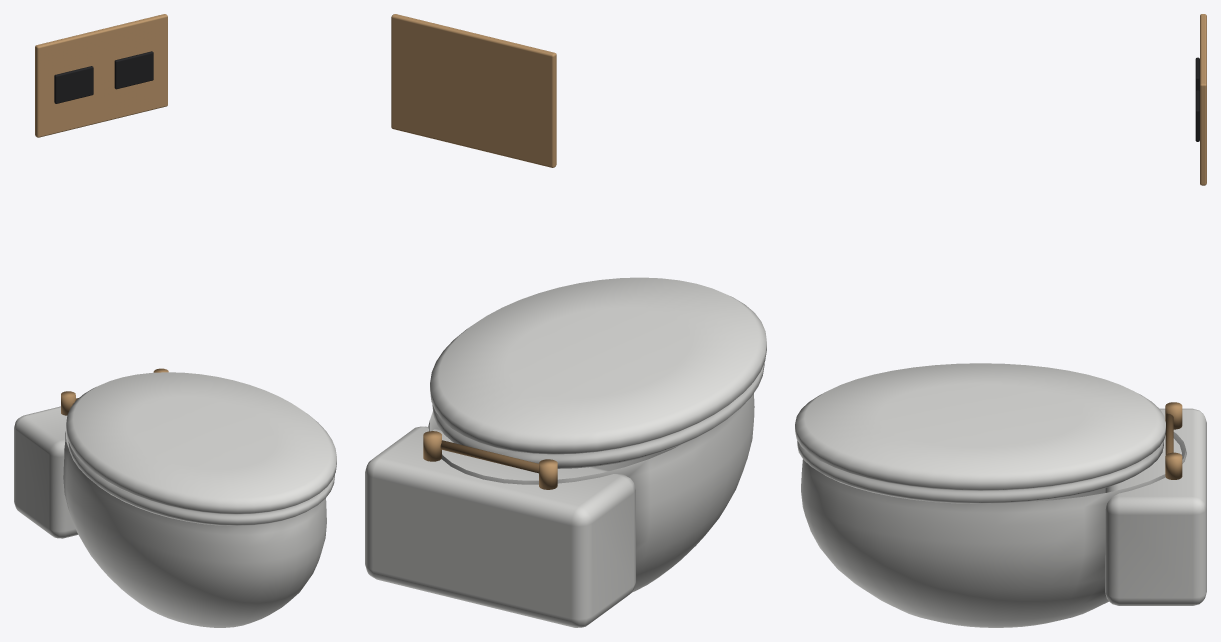
The model's file is entry_wc.gltf.
3 views of the same model, side by side, from view 1: azimuth 30°, elevation 25°; view 2: azimuth 150°, elevation 25°; view 3: azimuth 270°, elevation 25° (orthographic). The views are drawn at different scales.
Parts seen in each view (by area): view 1: EntryWC_Lid, EntryWC_Pan, EntryWC_Plate, EntryWC_Rear, EntryWC_Seat, EntryWC_Button_L, EntryWC_Button_R; view 2: EntryWC_Lid, EntryWC_Rear, EntryWC_Plate, EntryWC_Pan, EntryWC_Seat, EntryWC_Hinge; view 3: EntryWC_Lid, EntryWC_Pan, EntryWC_Rear, EntryWC_Seat, EntryWC_Plate, EntryWC_Hinge.
Part boxes in pixels (left/top/right/bottom): EntryWC_Lid: left=66, top=372, right=336, bottom=514; EntryWC_Pan: left=63, top=430, right=326, bottom=627; EntryWC_Plate: left=35, top=14, right=167, bottom=137; EntryWC_Rear: left=14, top=406, right=78, bottom=538; EntryWC_Seat: left=68, top=441, right=334, bottom=525; EntryWC_Button_L: left=54, top=66, right=93, bottom=103; EntryWC_Button_R: left=114, top=51, right=153, bottom=89; EntryWC_Lid: left=430, top=277, right=766, bottom=454; EntryWC_Rear: left=365, top=426, right=635, bottom=627; EntryWC_Plate: left=391, top=14, right=556, bottom=167; EntryWC_Pan: left=428, top=393, right=754, bottom=592; EntryWC_Seat: left=432, top=363, right=764, bottom=468; EntryWC_Hinge: left=423, top=431, right=557, bottom=489; EntryWC_Lid: left=795, top=363, right=1165, bottom=490; EntryWC_Pan: left=801, top=432, right=1186, bottom=627; EntryWC_Rear: left=1105, top=408, right=1206, bottom=605; EntryWC_Seat: left=797, top=440, right=1163, bottom=503; EntryWC_Plate: left=1200, top=14, right=1206, bottom=185; EntryWC_Hinge: left=1165, top=402, right=1182, bottom=479.
Size of the model in its own units: 0.39 by 0.885 by 0.586.
